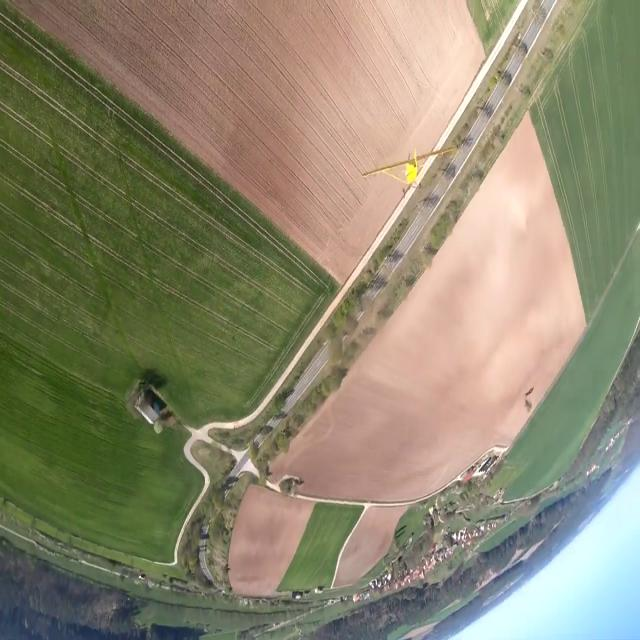iha: (394, 145, 426, 195)
